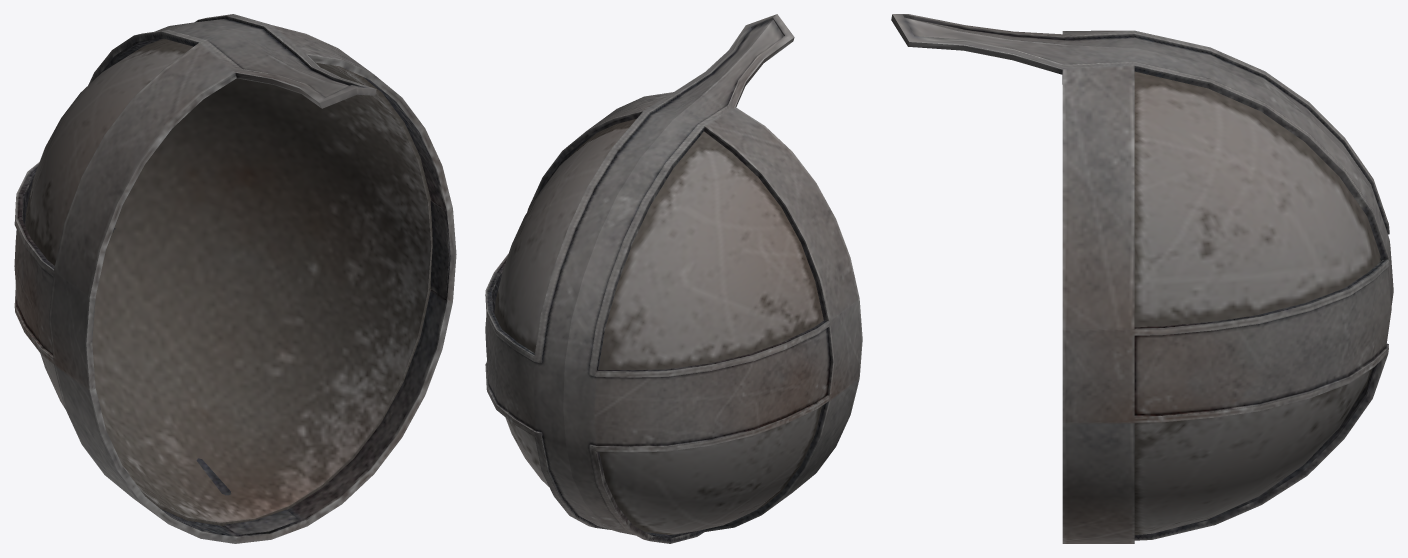
File: 5VikingsObjectsHelmet.glb
3 renders of one model, left to right at view 1: azimuth 30°, elevation 25°; view 2: azimuth 150°, elevation 25°; view 3: azimuth 270°, elevation 25°, orthographic. The views are drawn at different scales.
Visible parts, largest first — view 1: VikingsObjectsHelmet04; view 2: VikingsObjectsHelmet04; view 3: VikingsObjectsHelmet04.
Part boxes in pixels (x1,y1,x2,y2): VikingsObjectsHelmet04: (14,14,456,543); VikingsObjectsHelmet04: (485,14,862,543); VikingsObjectsHelmet04: (891,14,1393,543).
Bounding box in the file's own units: 1.29 × 1.7 × 1.51.
2 materials, 2 textured.
